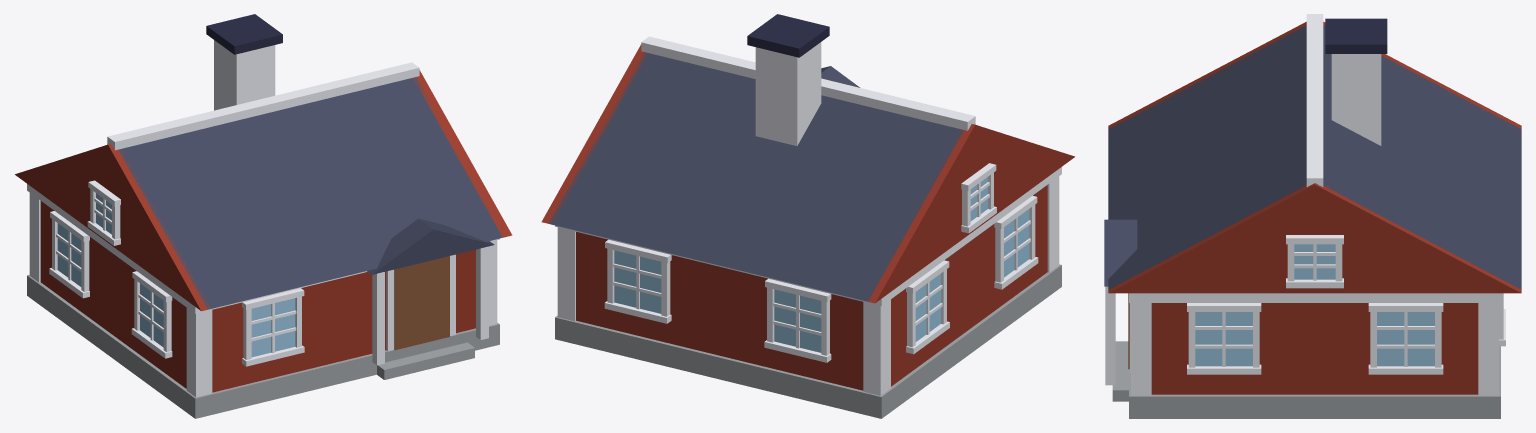
Rendered from house-1x1-1f-stuga-a.glb.
3 views of the same model, side by side, from view 1: azimuth 30°, elevation 25°; view 2: azimuth 150°, elevation 25°; view 3: azimuth 270°, elevation 25° (orthographic). The views are drawn at different scales.
Visible parts, largest first — view 1: house-1x1-1f-stuga-a; view 2: house-1x1-1f-stuga-a; view 3: house-1x1-1f-stuga-a.
Boxes of the visible parts, <box> form: house-1x1-1f-stuga-a: <box>15,14,512,418</box>; house-1x1-1f-stuga-a: <box>541,14,1074,418</box>; house-1x1-1f-stuga-a: <box>1104,14,1521,418</box>.
Bounding box in the file's own units: 1 × 0.815 × 1.01.
1 material, 1 textured.
